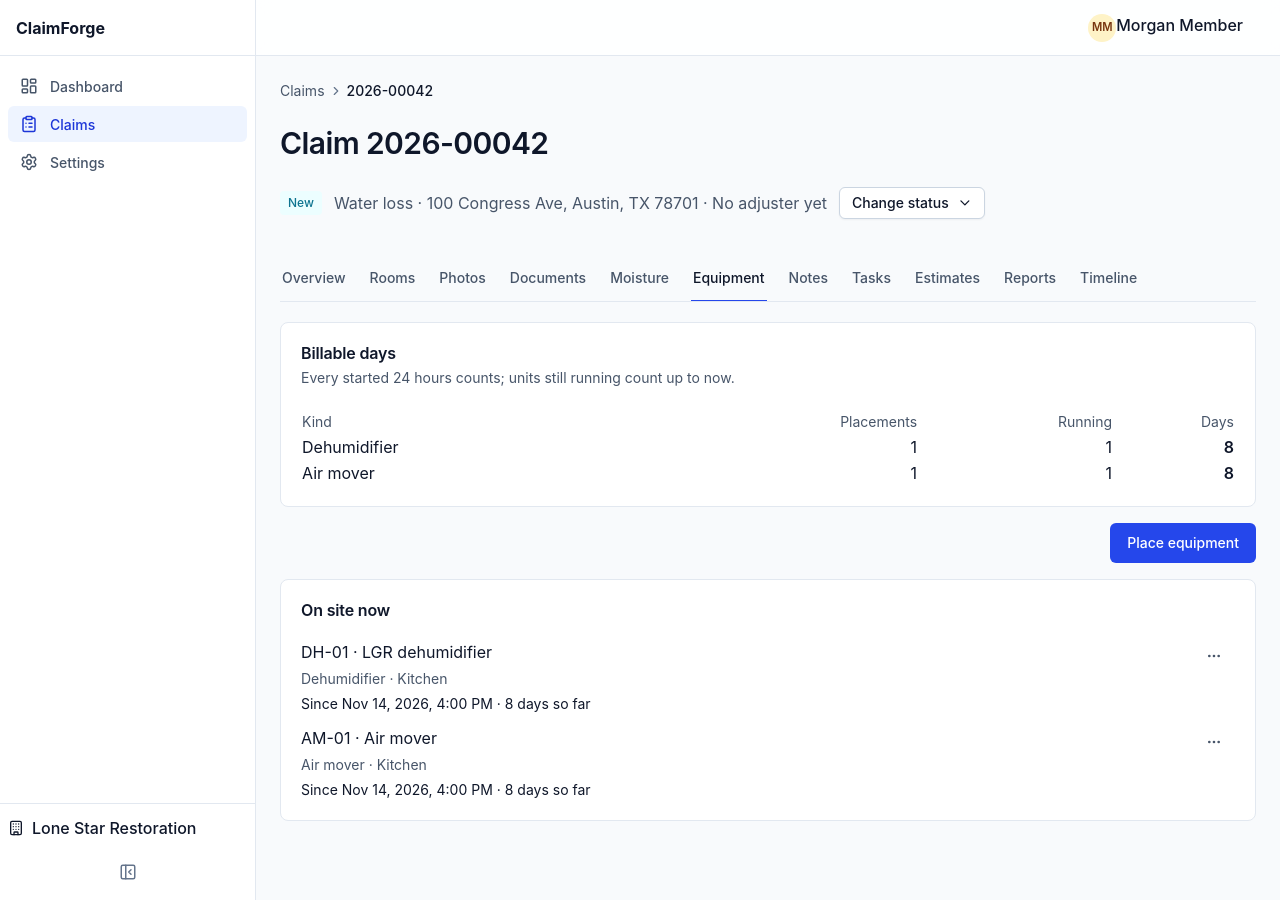
it: changing a placement › moving a unit to another room
This screenshot has width=1280, height=900.
Step 1. Click the button named "Change DH-01" → (1214, 656), box [1193,640,1235,672]
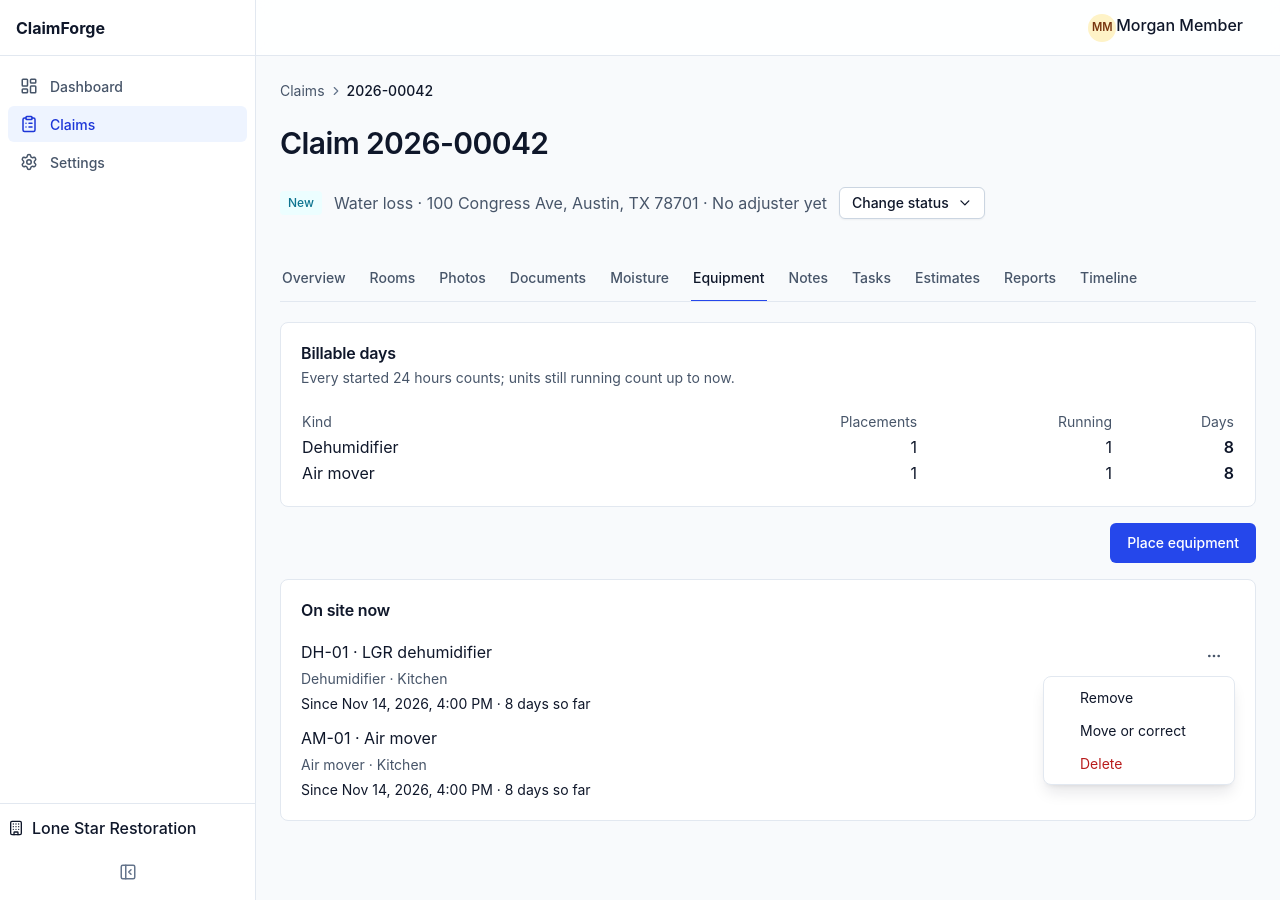
Step 2. Click the menu item "Move or correct" → (1133, 730), box [1080,722,1186,739]
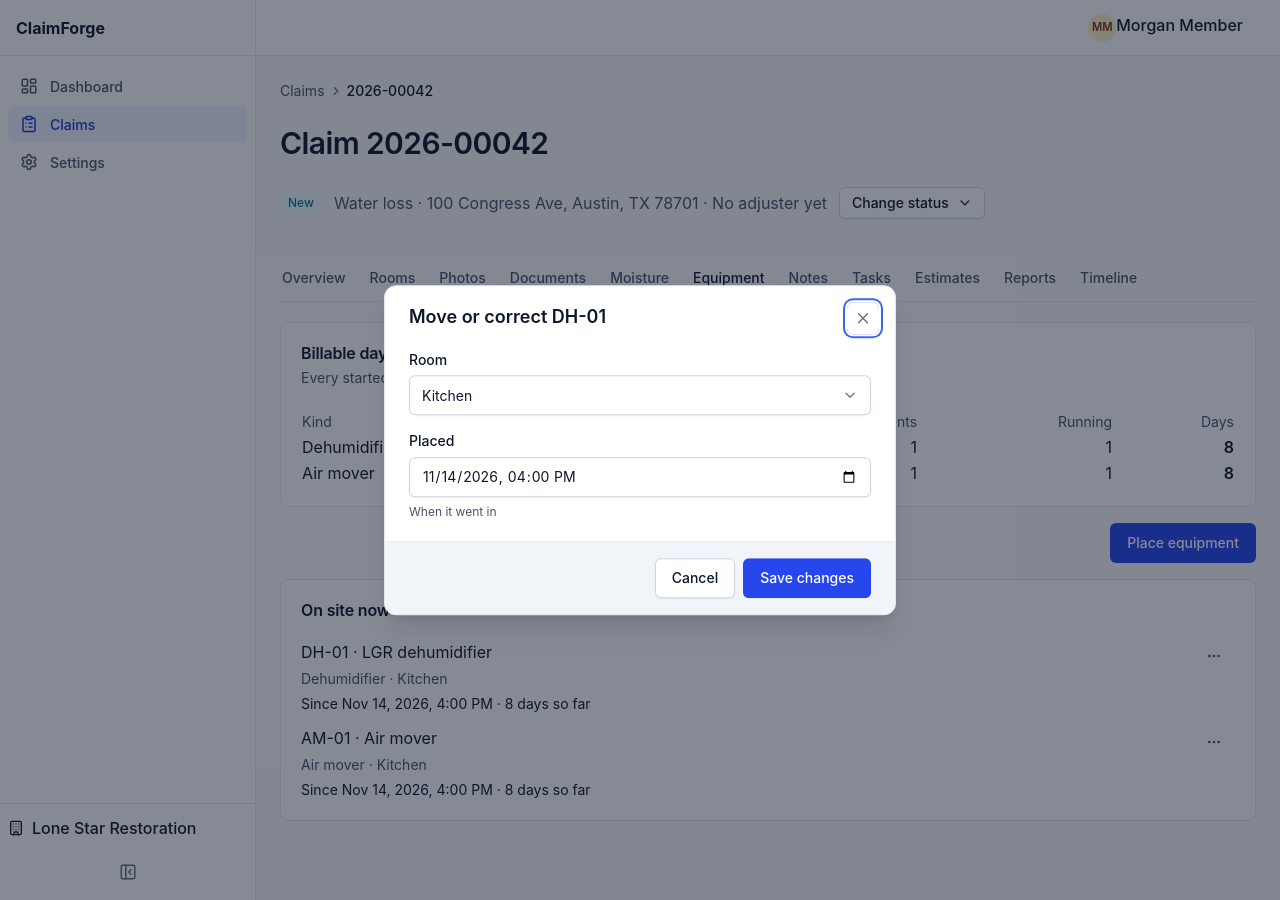
Step 3. Click the dropdown named "Room" → (447, 396), box [409,376,871,416]
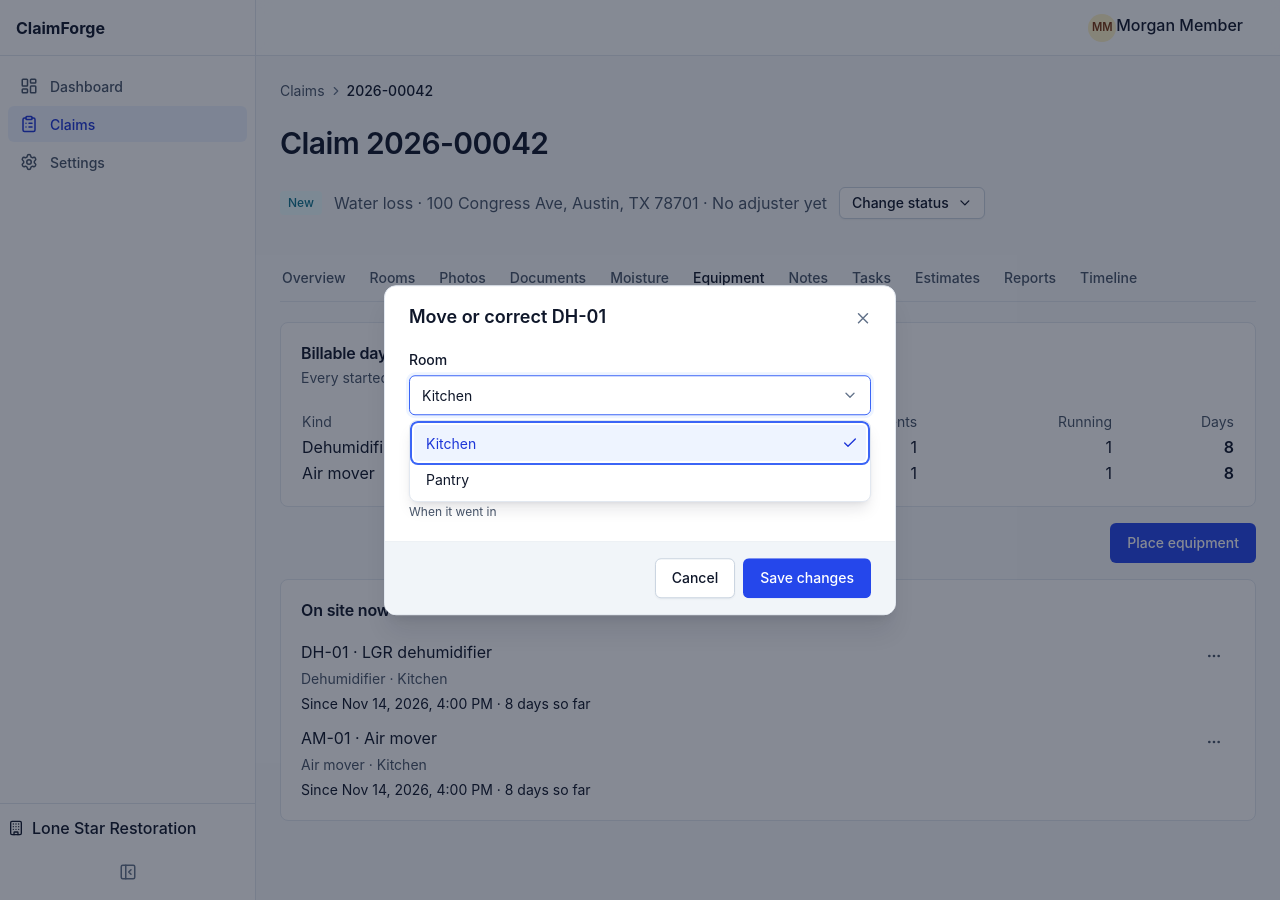
Step 4. Click the option "Pantry" → (448, 479), box [426,470,469,488]
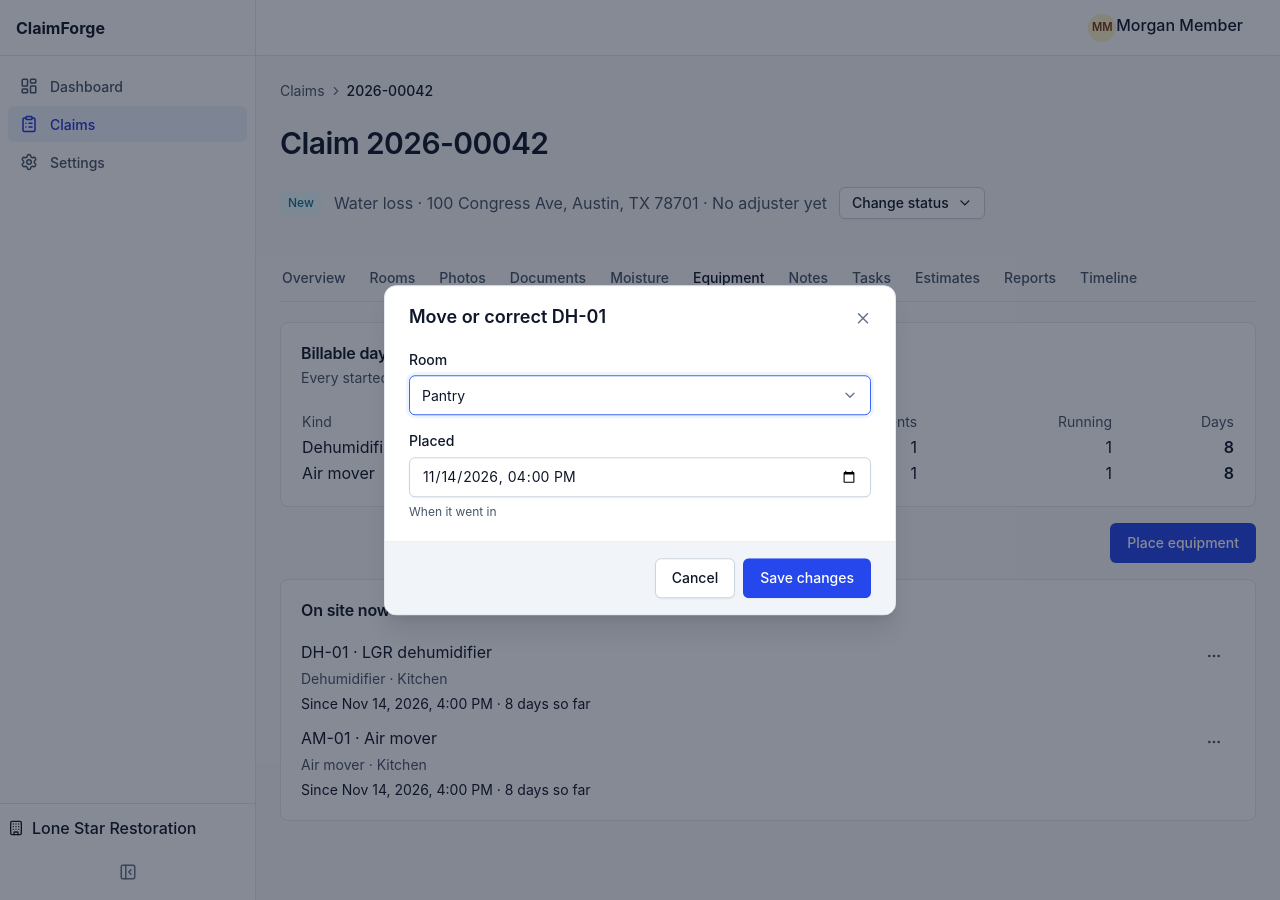
Step 5. Click the button "Save changes" → (807, 578), box [743,558,871,598]
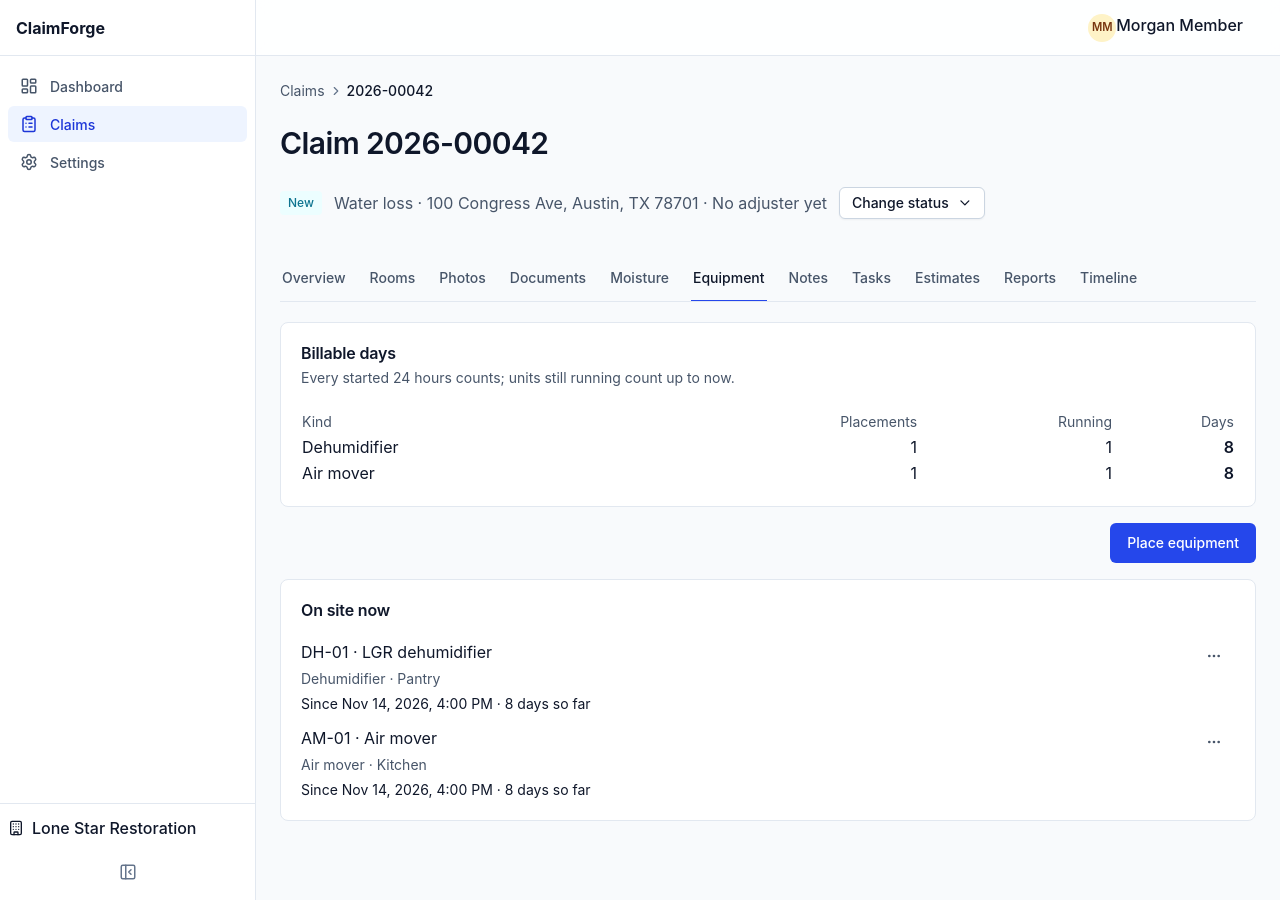
expect the list item that starts with "DH-01 · LGR dehumidifier" shows "Pantry": met, box [301,670,440,686]
